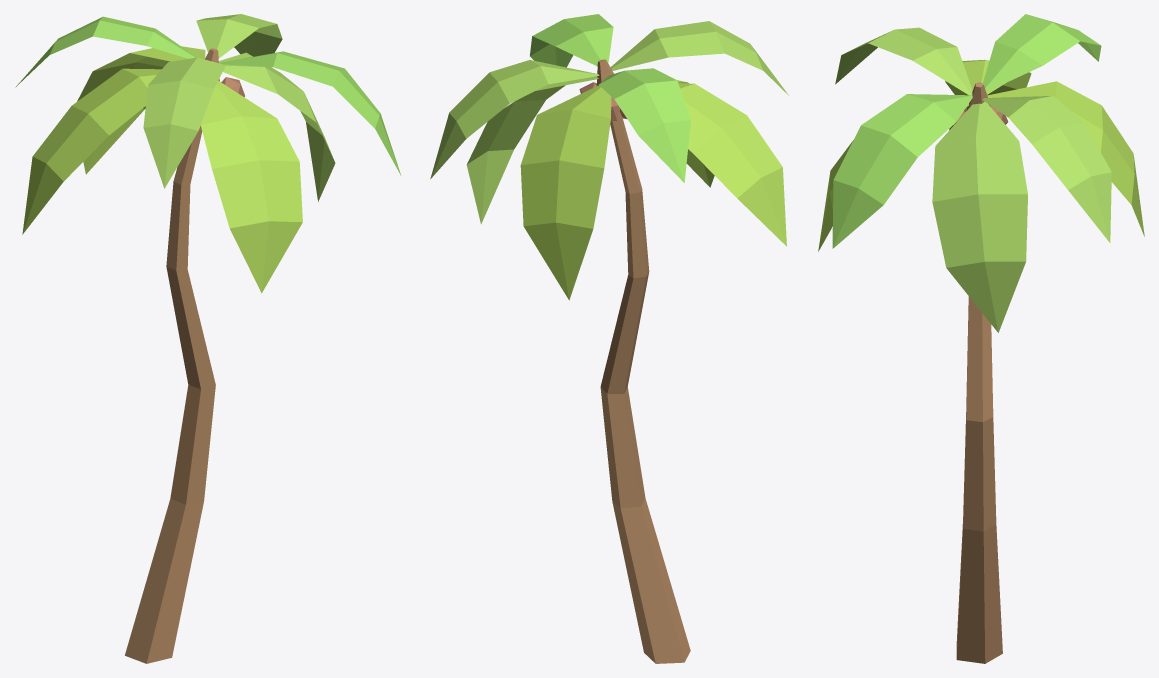
Rendered from Palm_Tree_Coconut_OneSided_m_04_LOD.fbx.
3 renders of one model, left to right at view 1: azimuth 30°, elevation 25°; view 2: azimuth 150°, elevation 25°; view 3: azimuth 270°, elevation 25°, orthographic. The views are drawn at different scales.
Parts seen in each view (by area): view 1: Palm_Tree_Coconut_OneSided_m_04_LOD0; view 2: Palm_Tree_Coconut_OneSided_m_04_LOD0; view 3: Palm_Tree_Coconut_OneSided_m_04_LOD0.
Part boxes in pixels (bbox=[...]): Palm_Tree_Coconut_OneSided_m_04_LOD0: bbox=[15, 14, 401, 663]; Palm_Tree_Coconut_OneSided_m_04_LOD0: bbox=[430, 14, 788, 663]; Palm_Tree_Coconut_OneSided_m_04_LOD0: bbox=[818, 14, 1144, 663].
Size of what is drawn, in the model's own units: 319 by 600 by 284.
